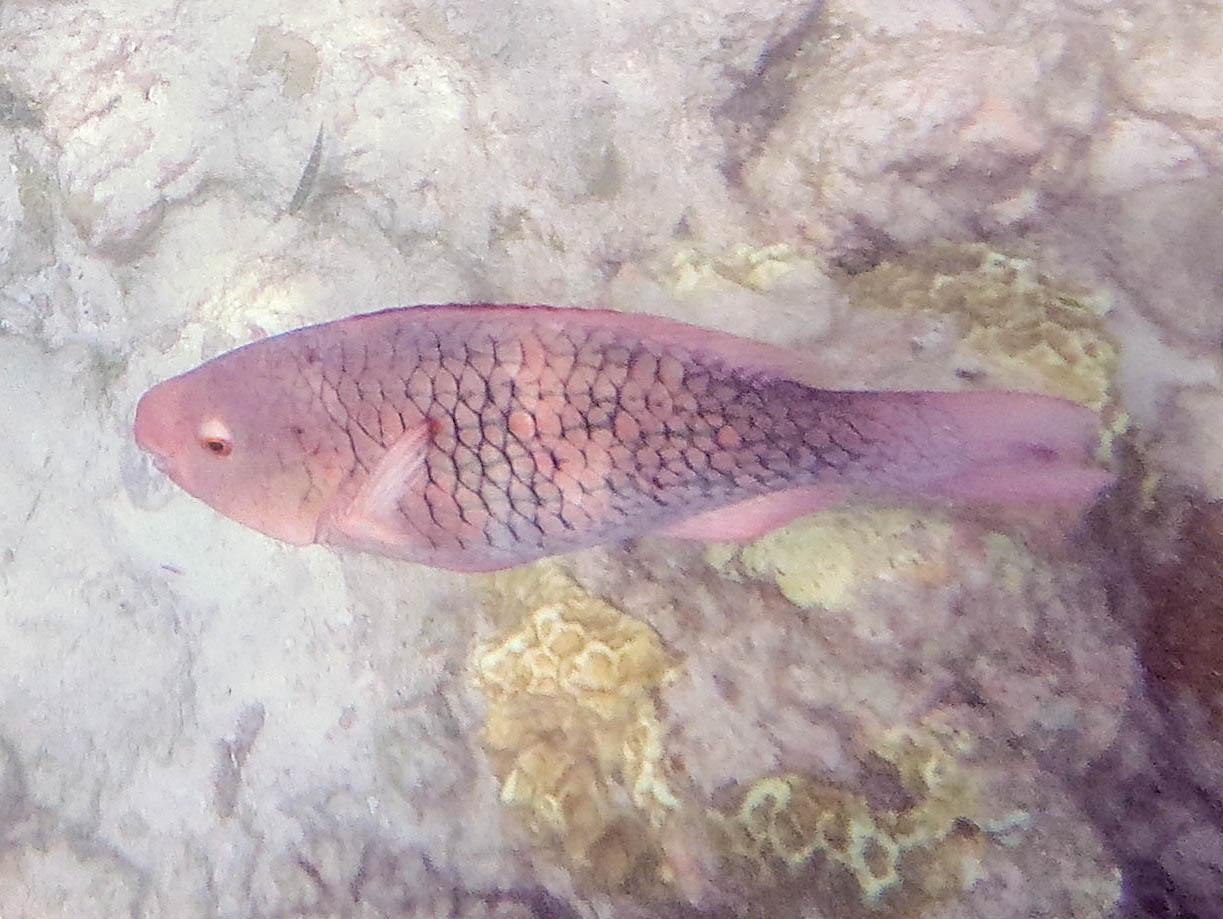Scarus rubroviolaceus: (113, 224, 1223, 628)
